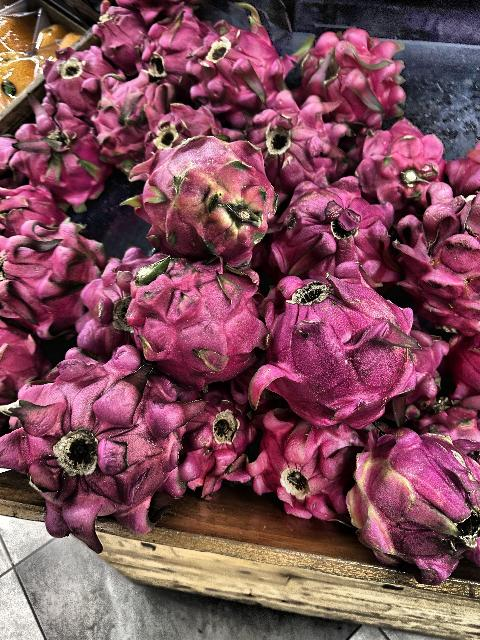buah-naga-belum-matang: (342, 422, 480, 576), (125, 140, 284, 260)
buah-naga-matang: (12, 347, 194, 538), (264, 267, 444, 429), (116, 250, 268, 382), (392, 182, 480, 341), (242, 398, 354, 522), (278, 173, 403, 283), (294, 23, 410, 125), (232, 95, 358, 185), (166, 14, 284, 110), (0, 228, 100, 334), (4, 94, 106, 196), (174, 378, 260, 489), (90, 70, 175, 162), (359, 116, 446, 198), (134, 106, 236, 146)
